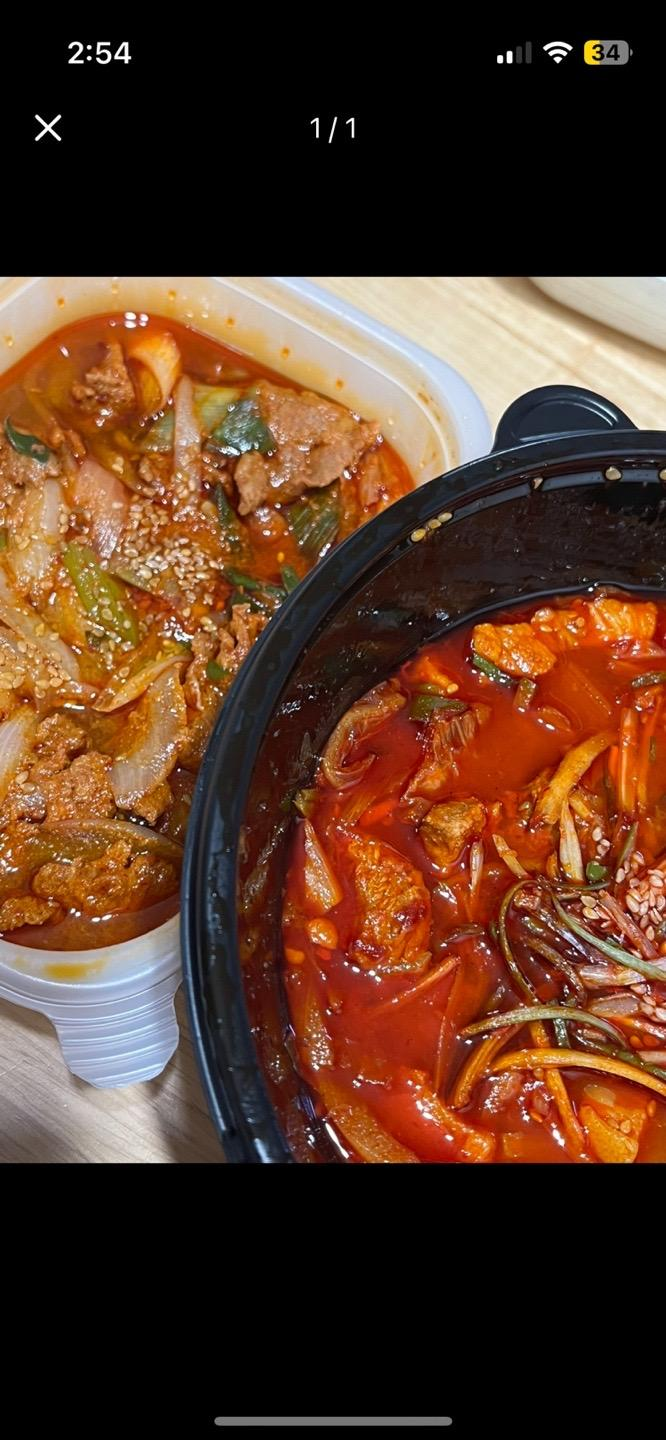Lunch Box: (0, 278, 489, 1088), (184, 386, 665, 1164)
